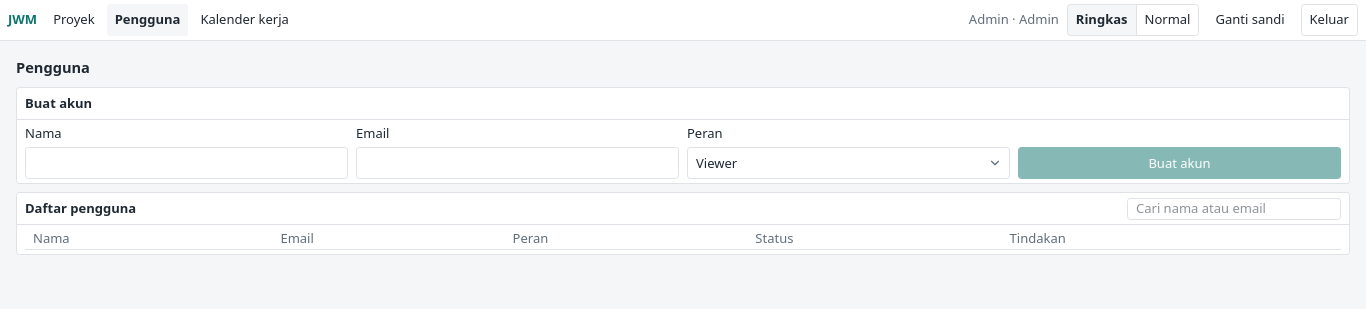
Test case: halaman admin pengguna › menampilkan galat dari server, mis. email sudah dipakai
The width and height of the screenshot is (1366, 309).
Type "Siti" into the field labelled "Nama".
click(186, 163); type("Siti")  # box [25,147,348,179]
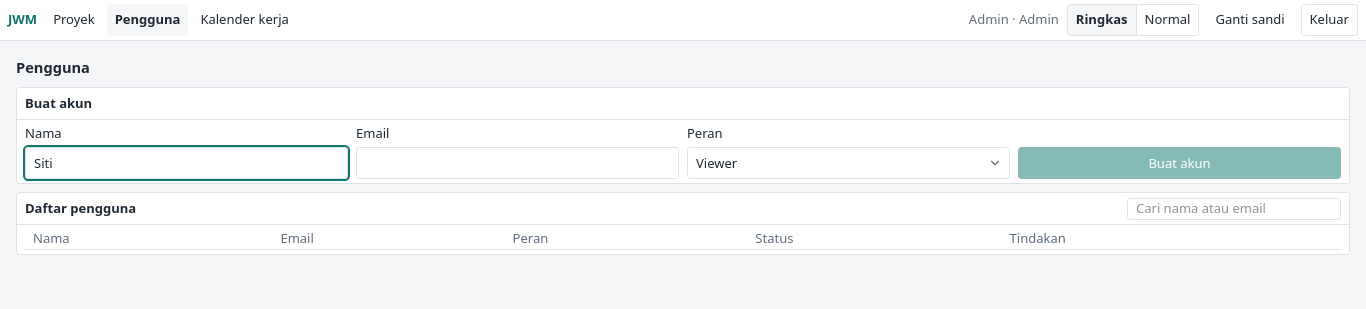
Type "siti@jiep.co.id" into the field labelled "Email".
click(518, 163); type("siti@jiep.co.id")  # box [356,147,679,179]
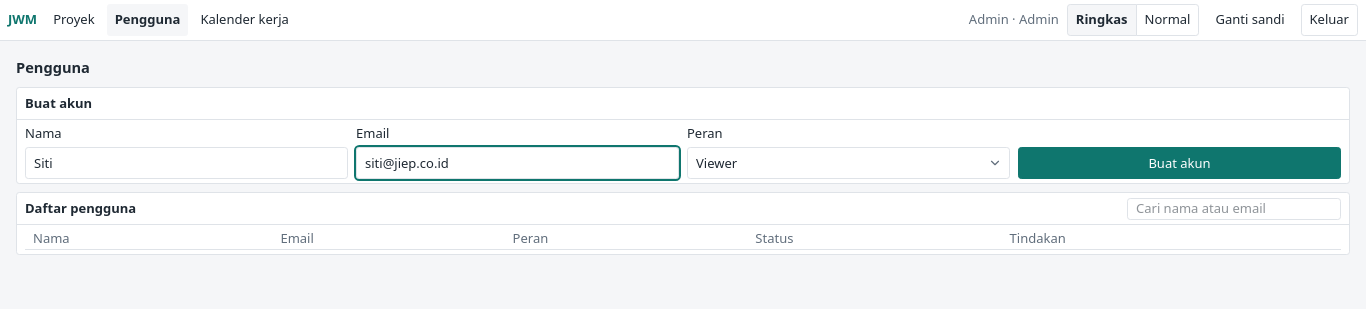
Click the button "Buat akun".
click(1180, 163)  # box [1018,147,1341,179]
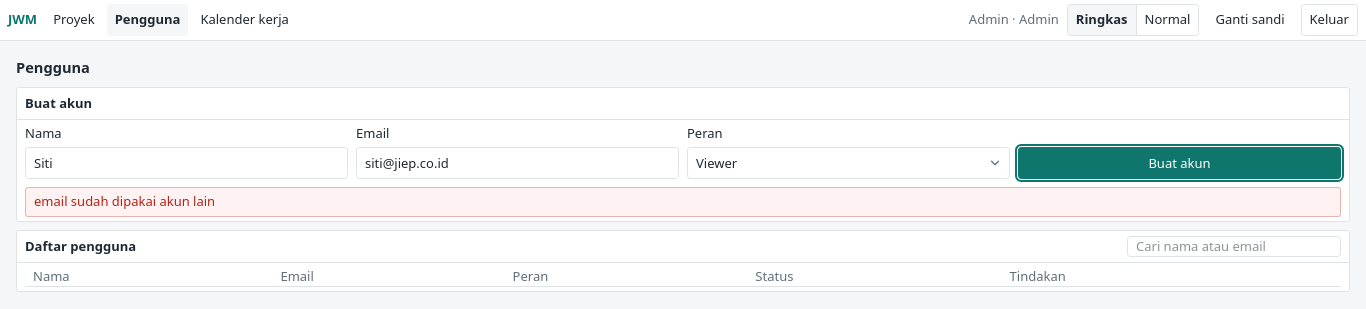
Check: the message shows "email sudah dipakai", box [34,192,215,210]
